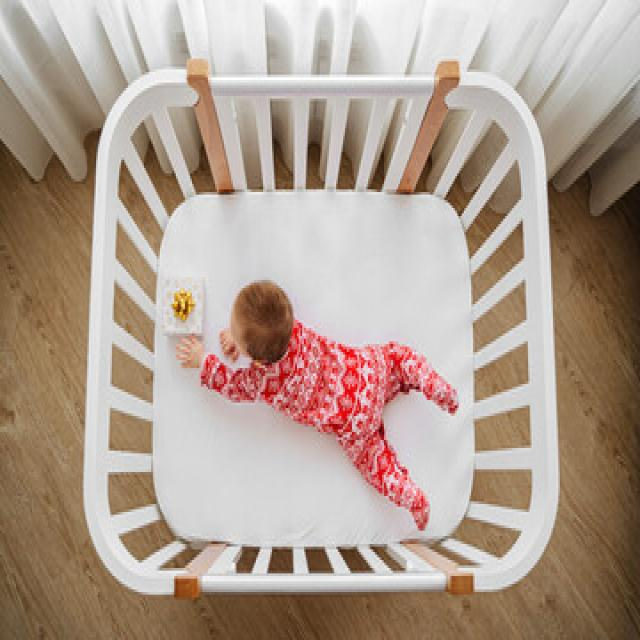crib: (80, 53, 562, 598)
